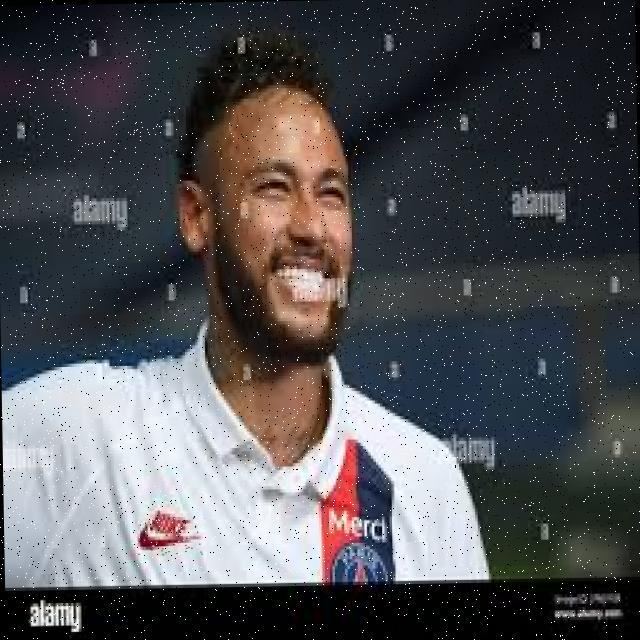Nike: (133, 516, 204, 555)
